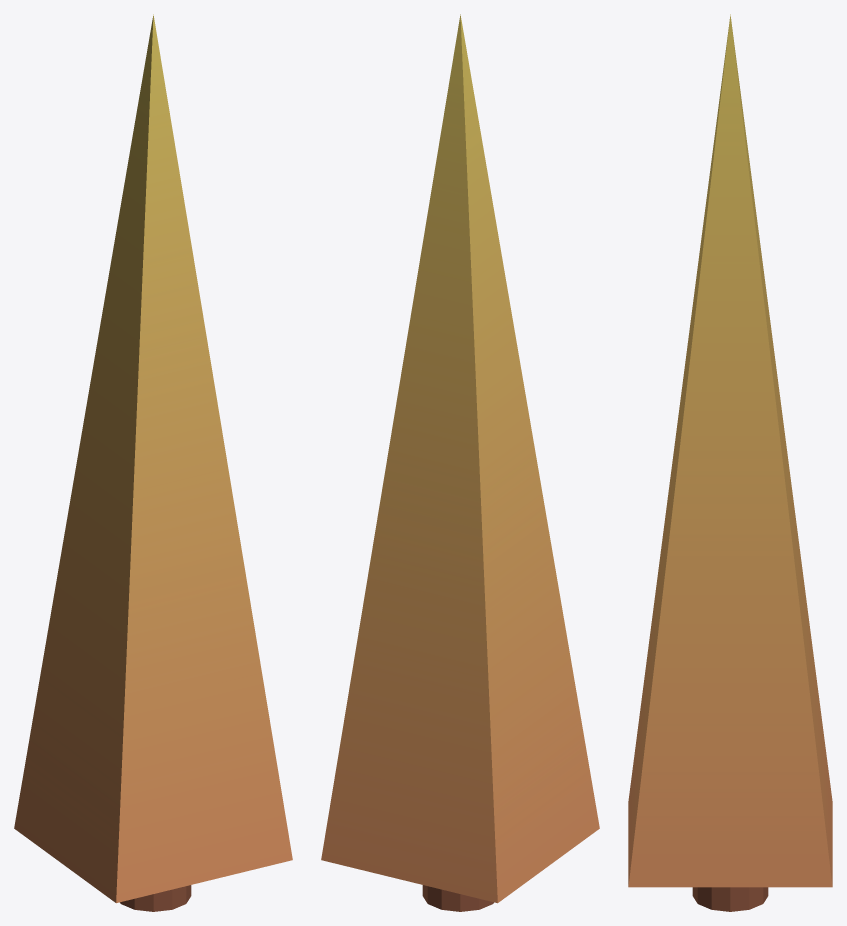
File: Tree_19_gradient_yellow.fbx
3 views of the same model, side by side, from view 1: azimuth 30°, elevation 25°; view 2: azimuth 150°, elevation 25°; view 3: azimuth 270°, elevation 25° (orthographic).
Visible parts, largest first — view 1: Tree_19_gradient_yellow; view 2: Tree_19_gradient_yellow; view 3: Tree_19_gradient_yellow.
Part boxes in pixels (box(x1,y1,x2,y2)): Tree_19_gradient_yellow: box(14, 14, 292, 911); Tree_19_gradient_yellow: box(321, 14, 599, 911); Tree_19_gradient_yellow: box(628, 14, 832, 911).
Size of the model in its own units: 59.69 by 285 by 59.69.
